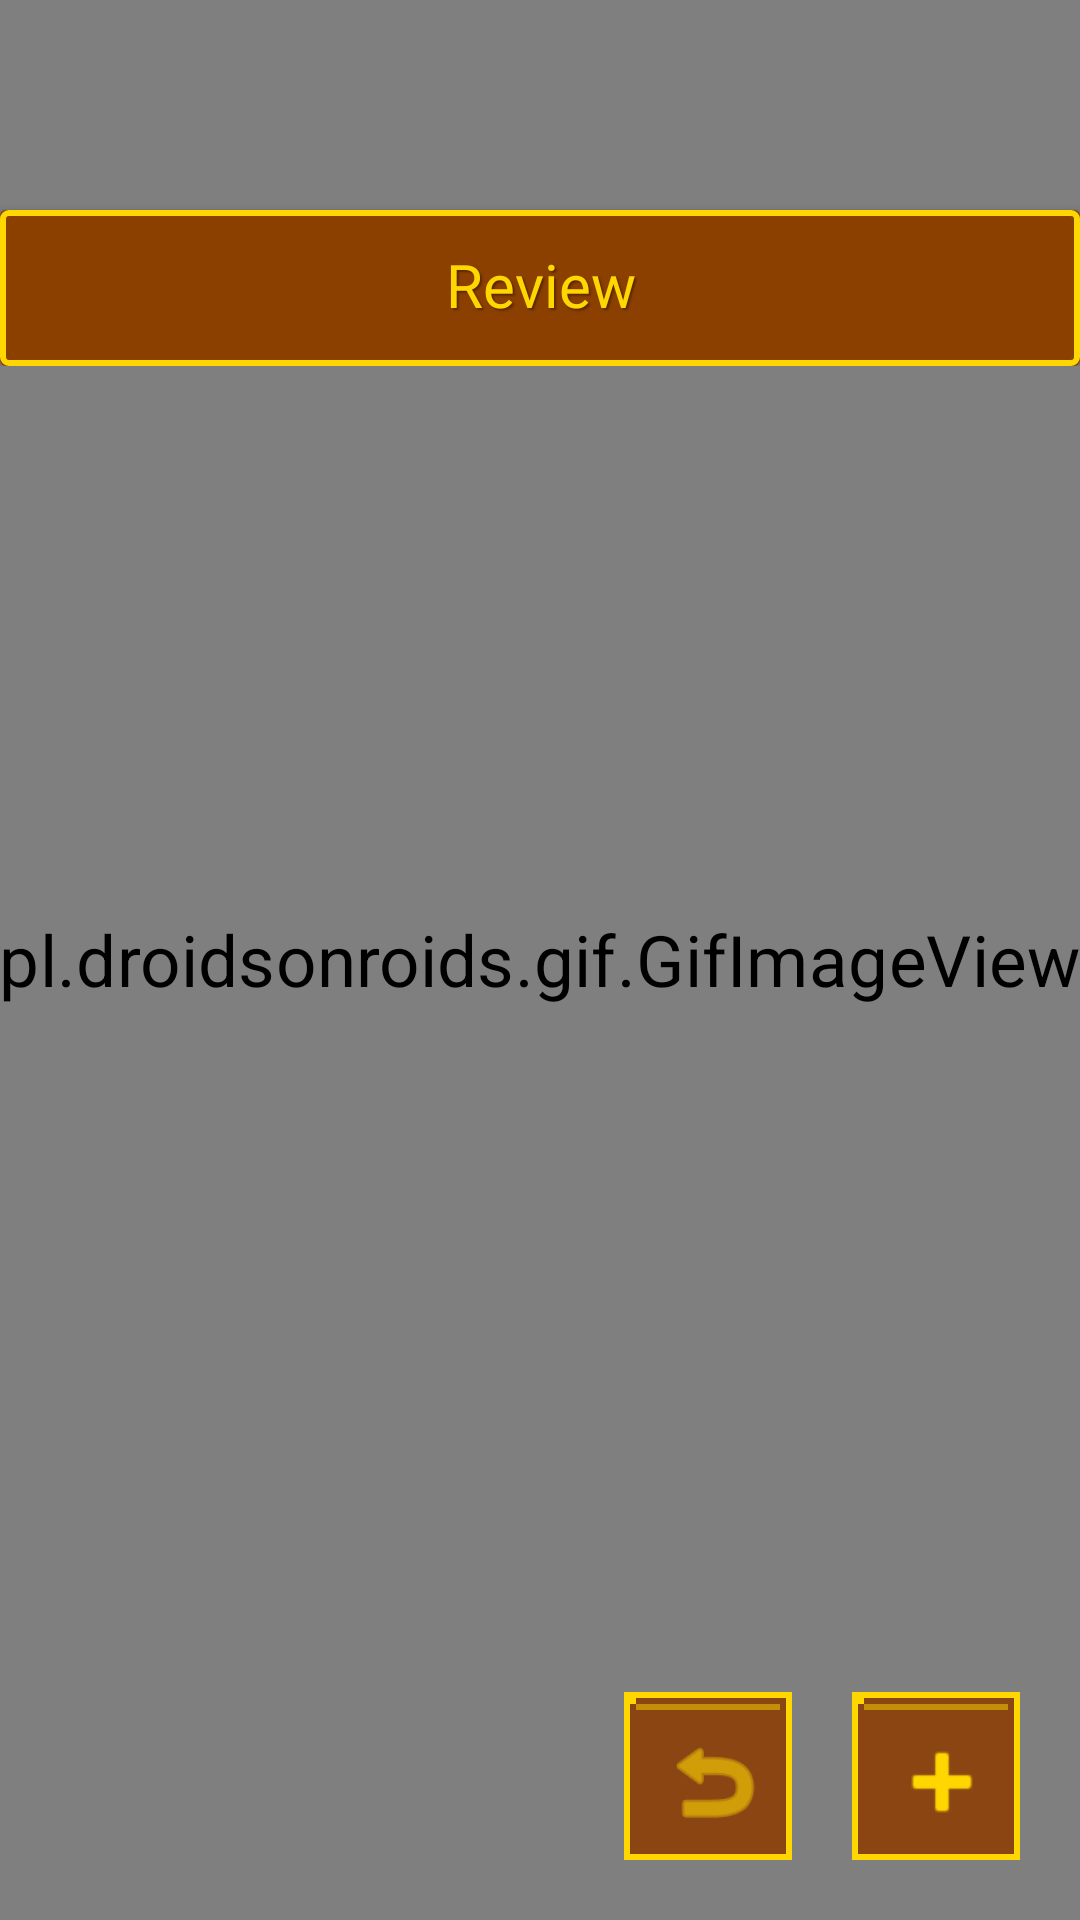

Named icons in this screenshot (1080px×1920px) and their bounding boxes, region(x1, y1, x2, y2):
Add button: region(852, 1692, 1020, 1860)
Go back: region(624, 1692, 792, 1860)
